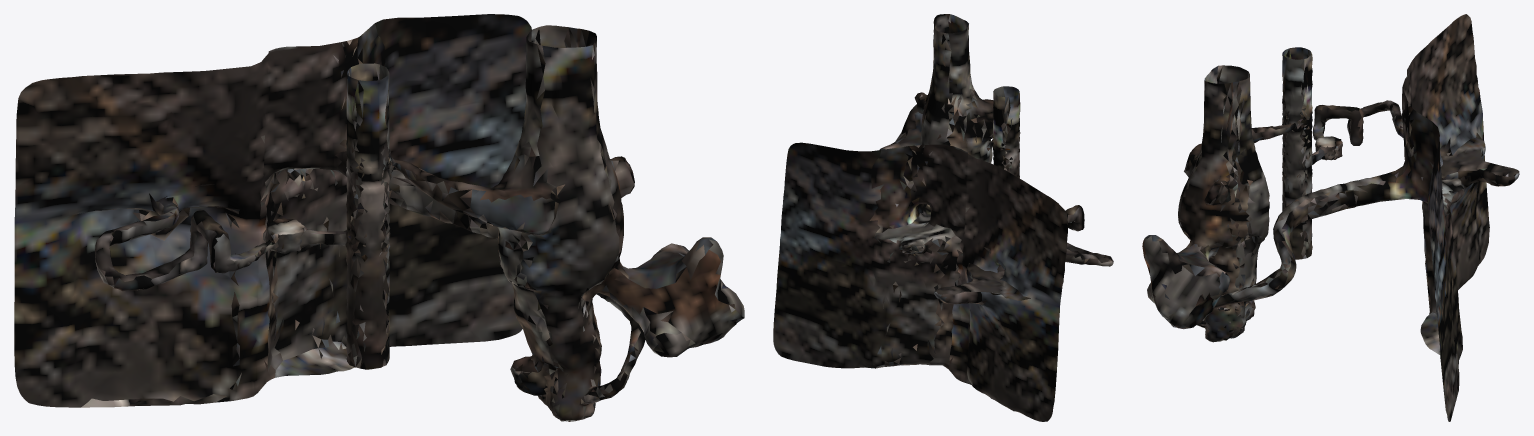
Rendered from World1_Cave_12-9.fbx.
3 renders of one model, left to right at view 1: azimuth 30°, elevation 25°; view 2: azimuth 150°, elevation 25°; view 3: azimuth 270°, elevation 25°, orthographic. The views are drawn at different scales.
Parts seen in each view (by area): view 1: Cave_World1_12/7.004, Cave_World1_12/7.006, Cave_World1_12/7, Cave_World1_12/7.003, Cave_World1_12/7.007, Cave_World1_12/7.002, Cave_World1_12/7.005, Cave_World1_12/7.001; view 2: Cave_World1_12/7.006, Cave_World1_12/7.004, Cave_World1_12/7, Cave_World1_12/7.003, Cave_World1_12/7.002, Cave_World1_12/7.007, Cave_World1_12/7.005; view 3: Cave_World1_12/7, Cave_World1_12/7.004, Cave_World1_12/7.006, Cave_World1_12/7.007, Cave_World1_12/7.003, Cave_World1_12/7.005, Cave_World1_12/7.002, Cave_World1_12/7.001.
Boxes of the visible parts, x1,y1,x2,y2 form: Cave_World1_12/7.004: (14, 53, 268, 407); Cave_World1_12/7.006: (253, 14, 531, 395); Cave_World1_12/7: (493, 25, 634, 421); Cave_World1_12/7.003: (327, 63, 397, 369); Cave_World1_12/7.007: (604, 237, 744, 357); Cave_World1_12/7.002: (95, 208, 329, 291); Cave_World1_12/7.005: (343, 147, 645, 404); Cave_World1_12/7.001: (393, 159, 516, 230); Cave_World1_12/7.006: (773, 142, 967, 379); Cave_World1_12/7.004: (934, 154, 1067, 421); Cave_World1_12/7: (914, 14, 993, 163); Cave_World1_12/7.003: (993, 86, 1020, 178); Cave_World1_12/7.002: (1065, 205, 1113, 266); Cave_World1_12/7.007: (879, 104, 922, 150); Cave_World1_12/7.005: (912, 204, 930, 224); Cave_World1_12/7: (1178, 65, 1269, 342); Cave_World1_12/7.004: (1407, 14, 1519, 289); Cave_World1_12/7.006: (1399, 72, 1464, 421); Cave_World1_12/7.007: (1142, 235, 1230, 329); Cave_World1_12/7.003: (1282, 47, 1315, 259); Cave_World1_12/7.005: (1197, 169, 1399, 326); Cave_World1_12/7.002: (1312, 100, 1403, 162); Cave_World1_12/7.001: (1251, 123, 1295, 143).
Size of the model in its own units: 62127 by 52330 by 57602.
